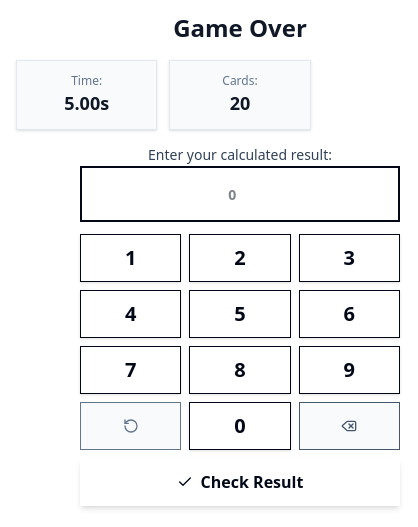
Test case: GameOverScreen › handles empty input correctly
Click the button "Check Result": (240, 482) x1=80 y1=458 x2=400 y2=506
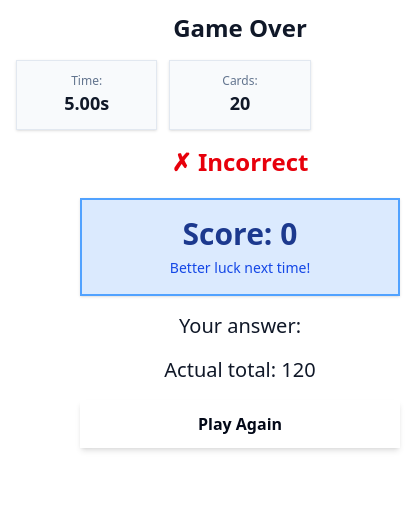
Expected: the text "✗ Incorrect" is shown, x1=172 y1=145 x2=308 y2=178
